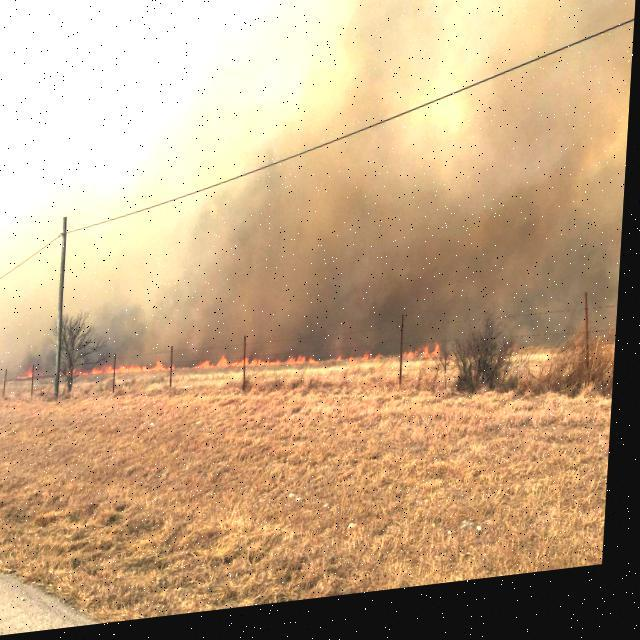Fire: (75, 324, 452, 405), (22, 374, 36, 382)
